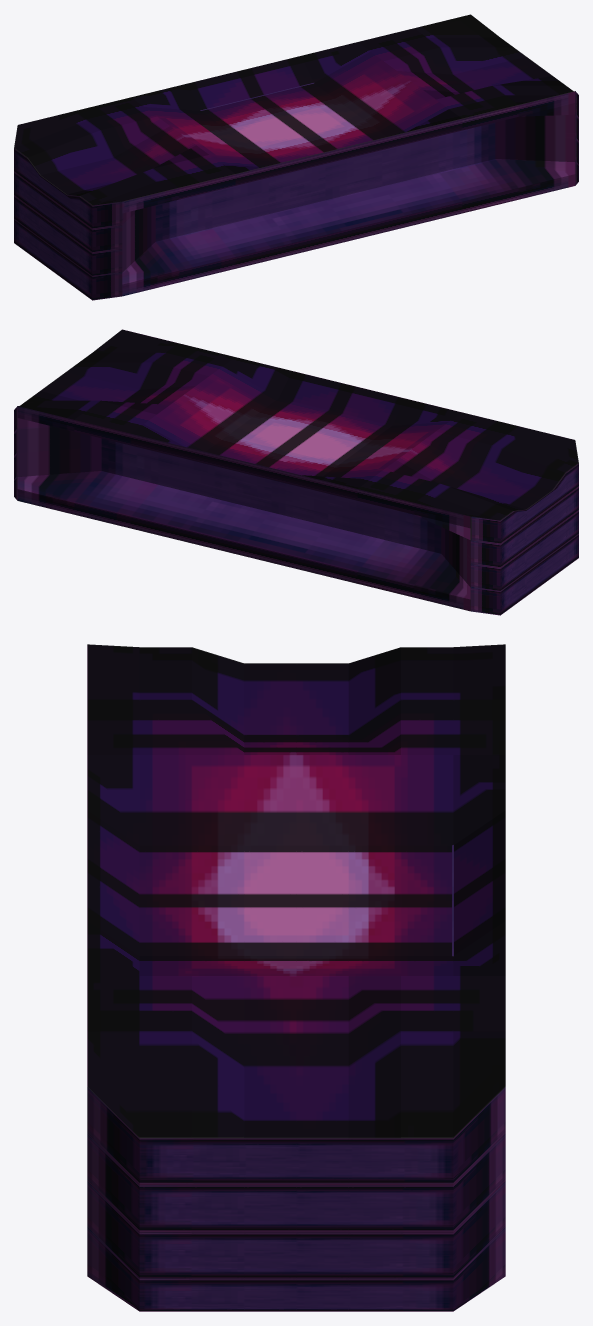
Rendered from lamp_red_light.fbx.
3 views of the same model, one above another, from view 1: azimuth 30°, elevation 25°; view 2: azimuth 150°, elevation 25°; view 3: azimuth 270°, elevation 25° (orthographic). The views are drawn at different scales.
Visible parts, largest first — view 1: Cube; view 2: Cube; view 3: Cube.
Boxes of the visible parts, x1,y1,x2,y2 form: Cube: [14, 14, 578, 300]; Cube: [14, 329, 578, 615]; Cube: [87, 644, 505, 1311].
Bounding box in the file's own units: 107 × 22.02 × 40.
Materials: 1 (1 with a texture image).
